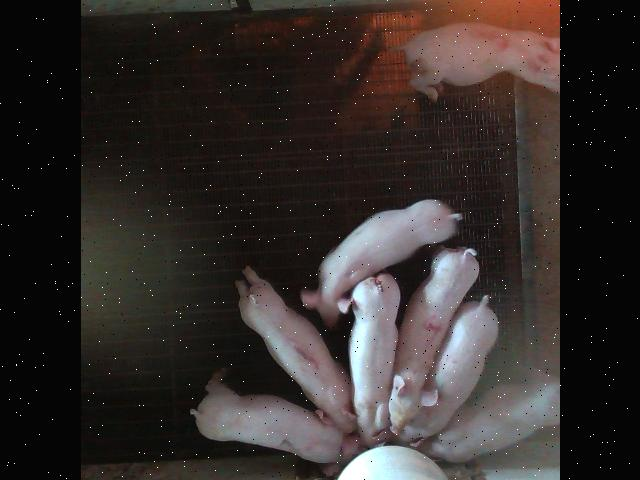pig-1: (234, 266, 356, 431)
pig-3: (395, 22, 558, 100)
pig-4: (388, 249, 478, 435)
